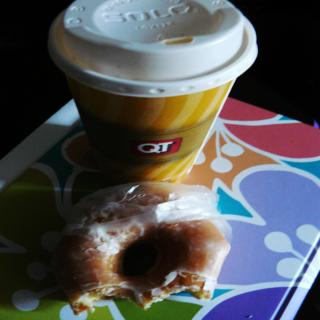Doughnut: (62, 185, 230, 318)
